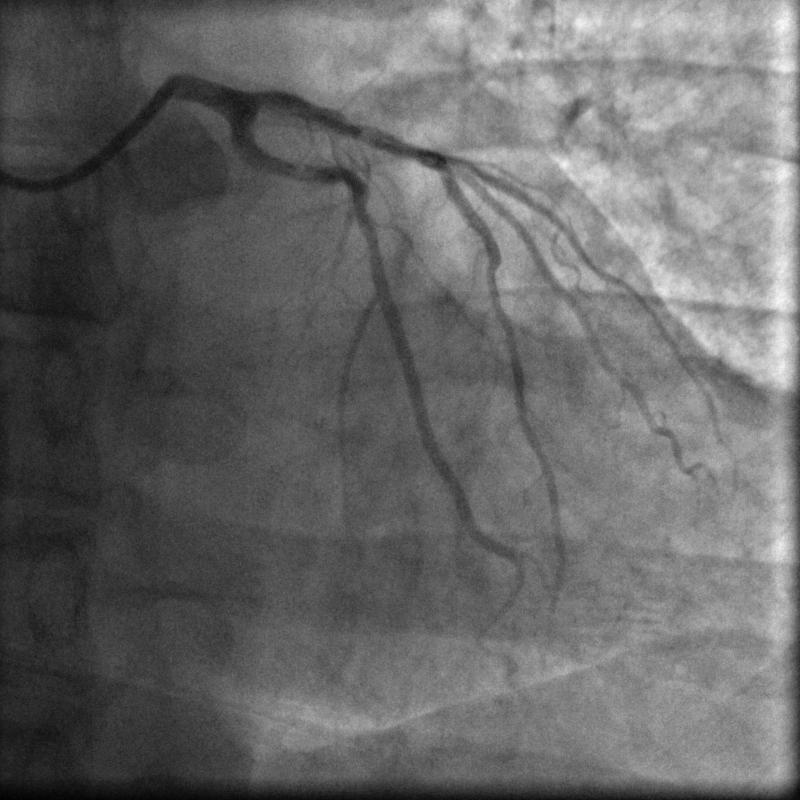Stenosis: (357, 123, 446, 161)
